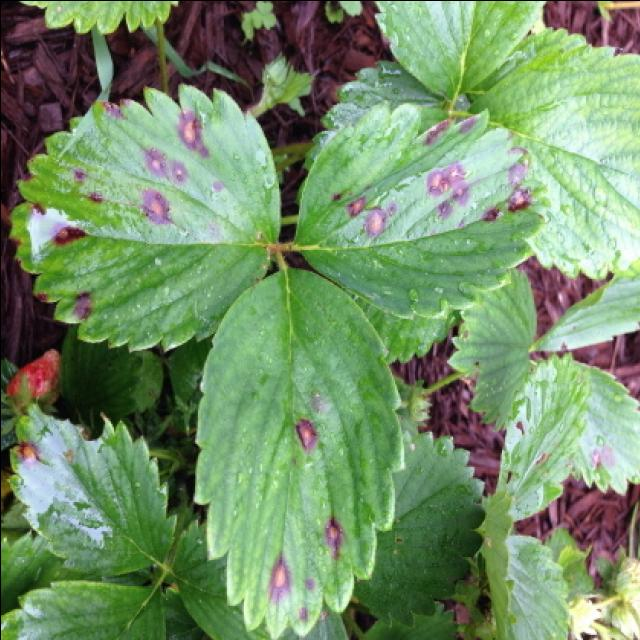Leaf Spot: (189, 268, 403, 639), (9, 83, 283, 356), (292, 96, 544, 317), (5, 400, 178, 575), (494, 351, 591, 518), (572, 360, 640, 496), (528, 270, 640, 352)
Powdery Mildew Fruit: (5, 347, 61, 416)
